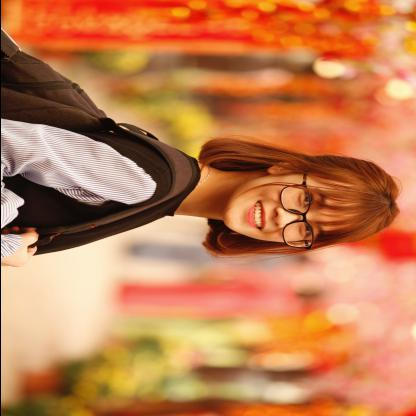Eye: (298, 190, 312, 208), (299, 223, 312, 237)
Mouth: (246, 200, 266, 231)
Nose: (272, 207, 301, 228)
